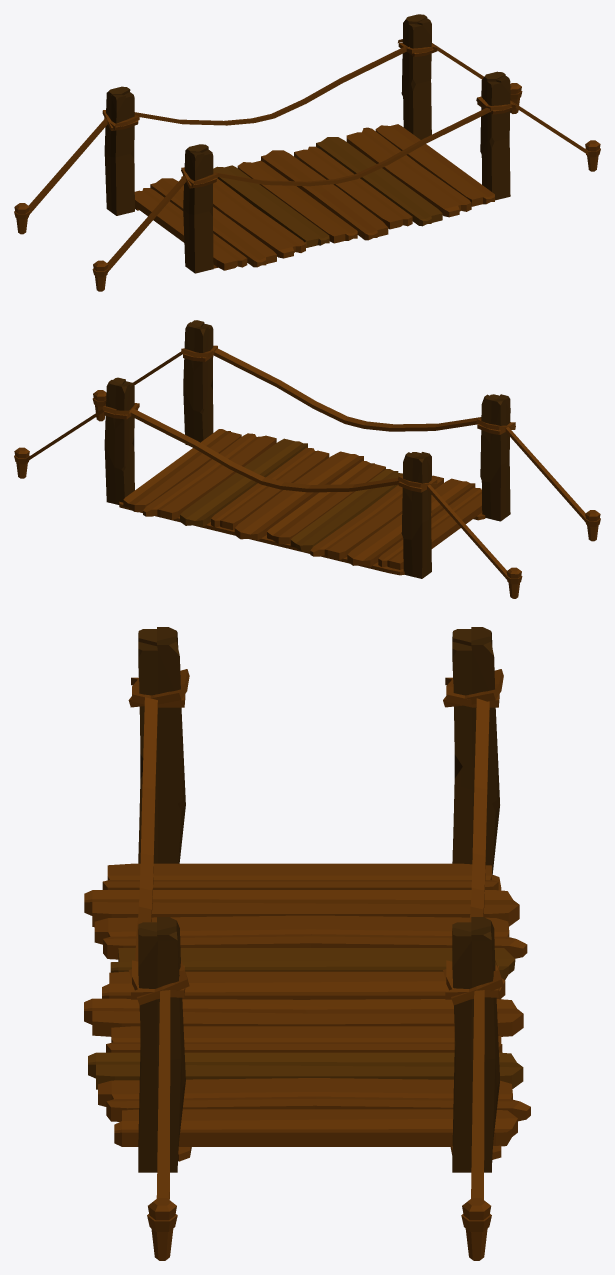
The model's file is Bridge_01.fbx.
3 views of the same model, one above another, from view 1: azimuth 30°, elevation 25°; view 2: azimuth 150°, elevation 25°; view 3: azimuth 270°, elevation 25° (orthographic). The views are drawn at different scales.
Visible parts, largest first — view 1: Cube.020; view 2: Cube.020; view 3: Cube.020.
Boxes of the visible parts, bbox=[...] form: Cube.020: bbox=[14, 14, 600, 291]; Cube.020: bbox=[14, 320, 600, 598]; Cube.020: bbox=[84, 627, 530, 1260].
Bounding box in the file's own units: 283 × 63.99 × 108.
